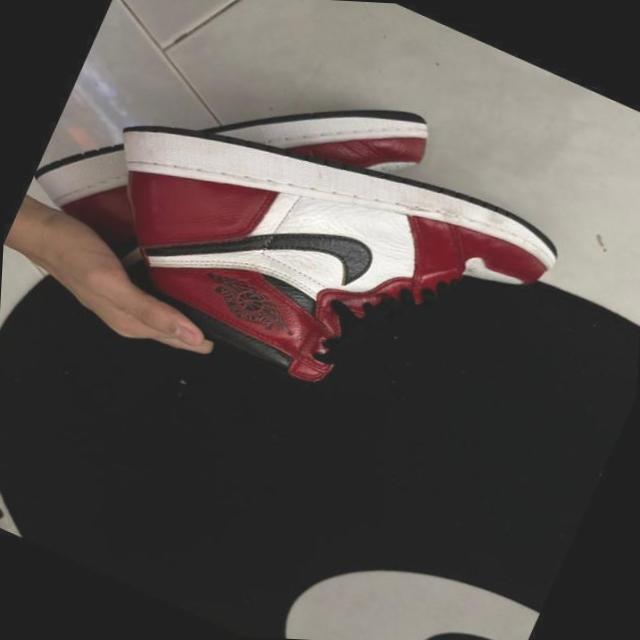nike_original_jordan: (40, 44, 589, 470)
